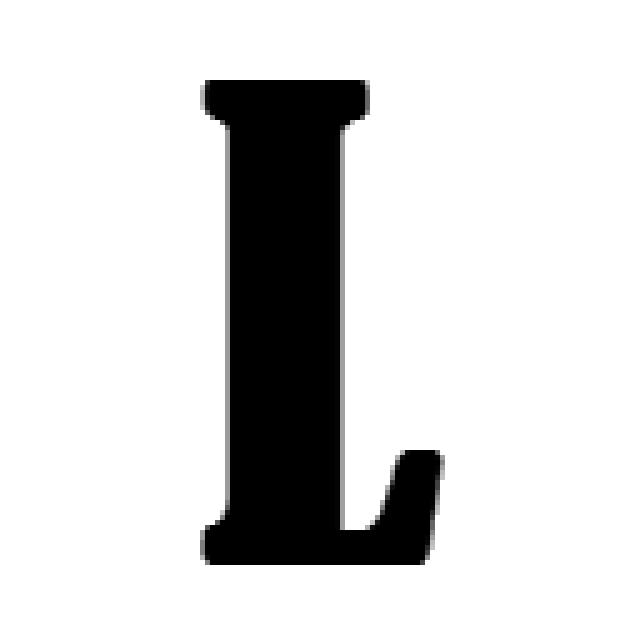L: (185, 80, 451, 567)
